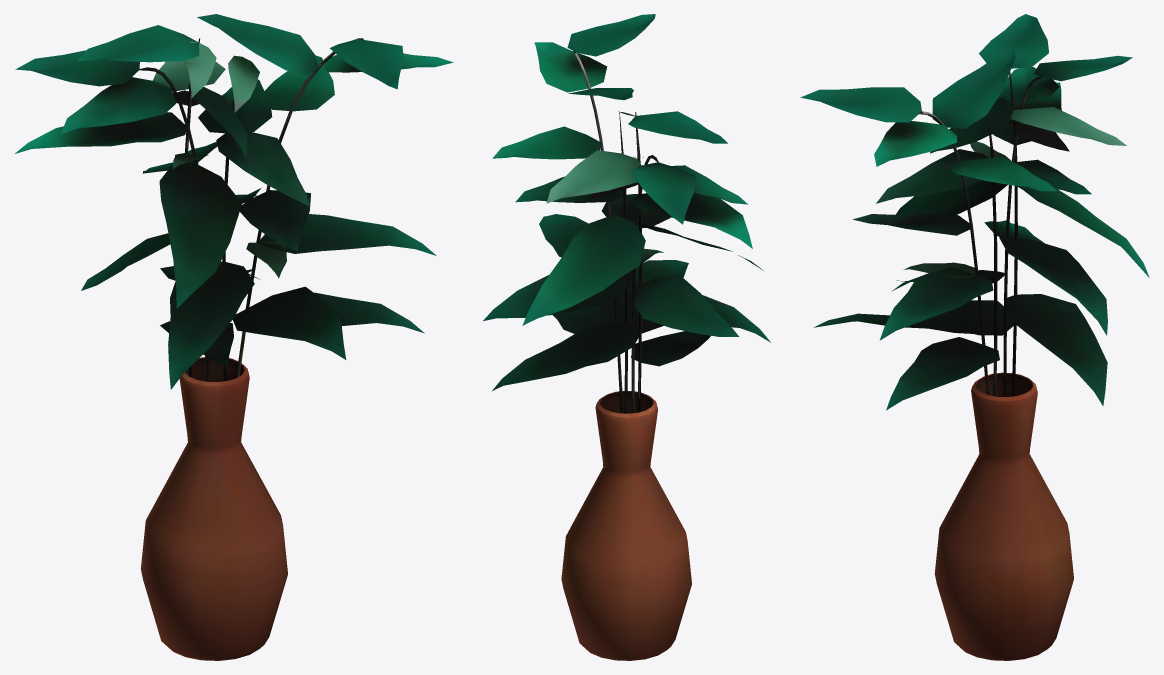
The model's file is plant_001.gltf.
3 renders of one model, left to right at view 1: azimuth 30°, elevation 25°; view 2: azimuth 150°, elevation 25°; view 3: azimuth 270°, elevation 25°, orthographic. The views are drawn at different scales.
Parts seen in each view (by area): view 1: PLAN001; view 2: PLAN001; view 3: PLAN001.
Part boxes in pixels (x1,y1,x2,y2): PLAN001: (15,14,453,660); PLAN001: (483,14,770,660); PLAN001: (800,14,1149,660).
Size of the model in its own units: 0.2952 by 0.5109 by 0.2754.
